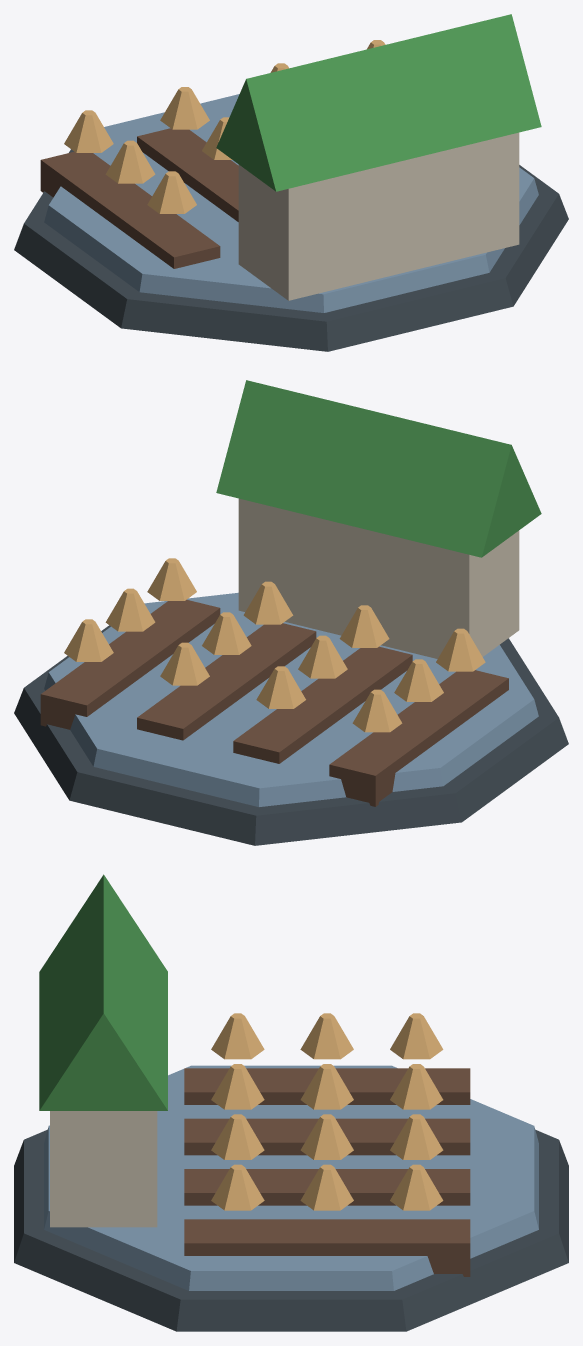
The model's file is Farm_2.fbx.
The picture shows the model from 3 angles, top to bottom: view 1: azimuth 30°, elevation 25°; view 2: azimuth 150°, elevation 25°; view 3: azimuth 270°, elevation 25°; orthographic projection. The views are drawn at different scales.
Visible parts, largest first — view 1: Farm_2; view 2: Farm_2; view 3: Farm_2.
Part boxes in pixels (box(x1,y1,x2,y2)): Farm_2: box(14, 14, 568, 351); Farm_2: box(14, 380, 568, 845); Farm_2: box(14, 874, 568, 1331).
Size of the model in its own units: 2.9 by 1.56 by 2.9.
